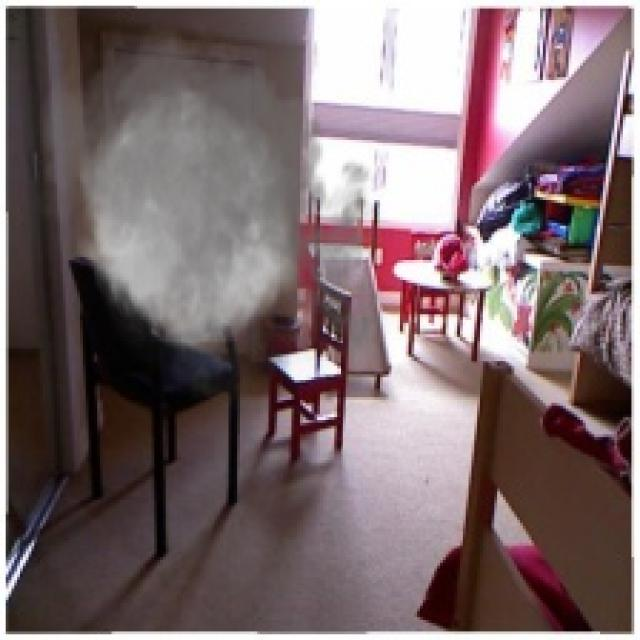smoke: (26, 11, 394, 423)
